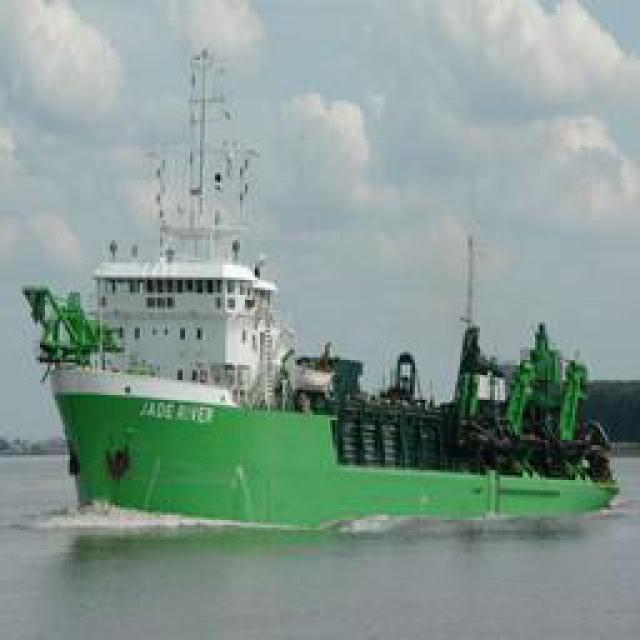Ship: (33, 215, 619, 520)
